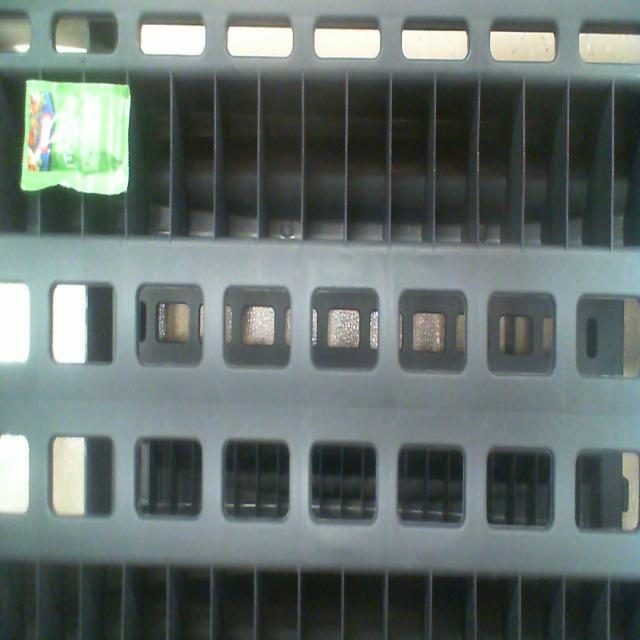snack: (24, 83, 128, 185)
